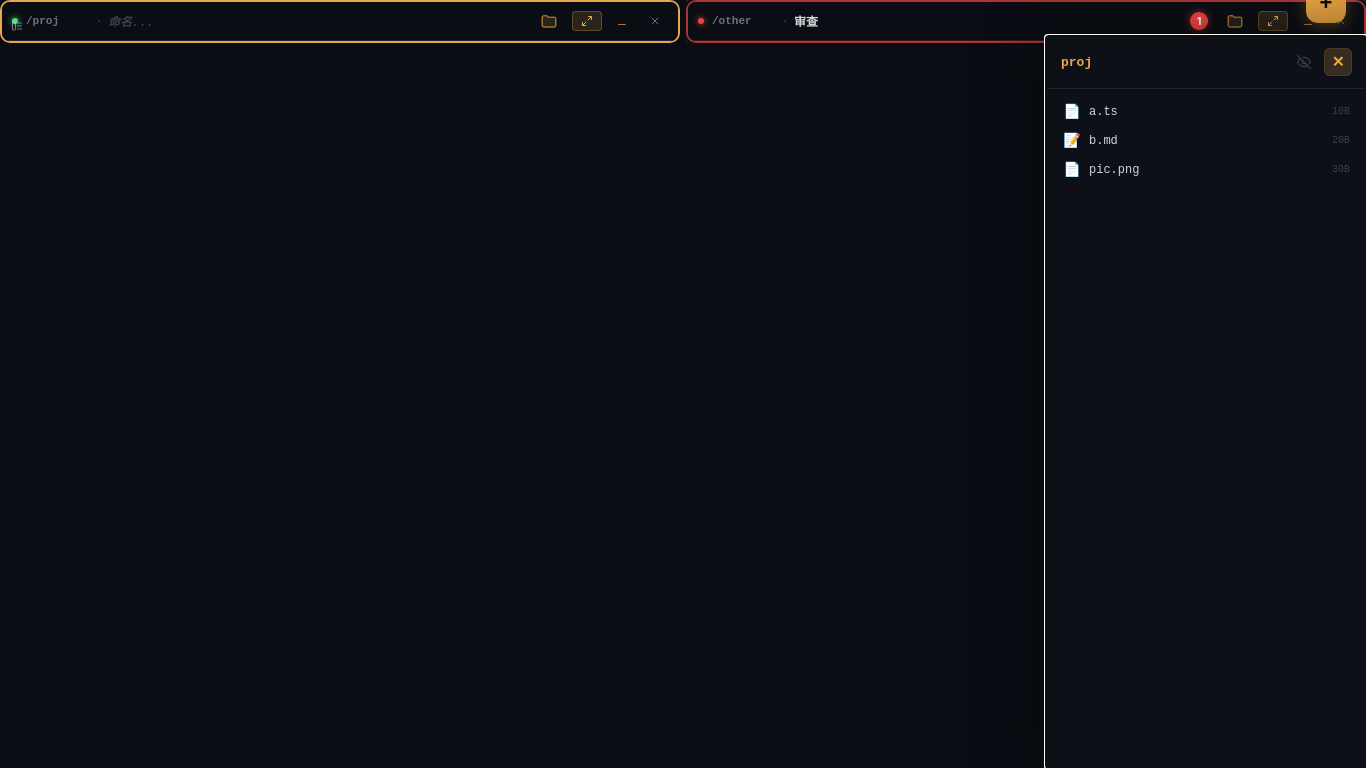
Test: file-tabs 终端状态灯组（§2.5） › ⑱ displayed=t2 时 owner 被关 → 整体退出（归位不与退出竞争）
What coordinates should you click on to do the following:
click the element showing "📄 a.ts 10B"
I would click on:
 (1072, 112)
Its box is x1=1063 y1=104 x2=1350 y2=120.
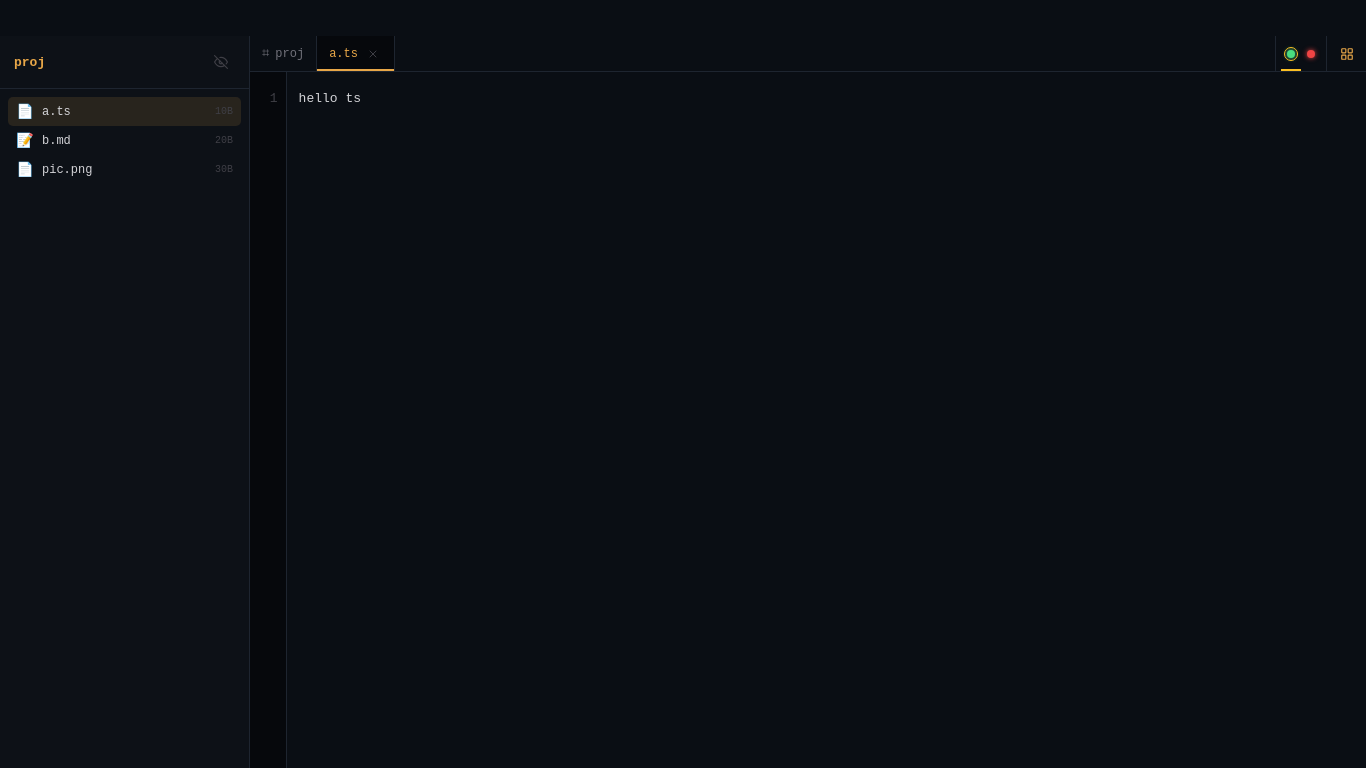
What coordinates should you click on to do the following:
click the button named "审查 · 等待输入"
I would click on:
 (1311, 54)
Its box is x1=1301 y1=36 x2=1321 y2=71.
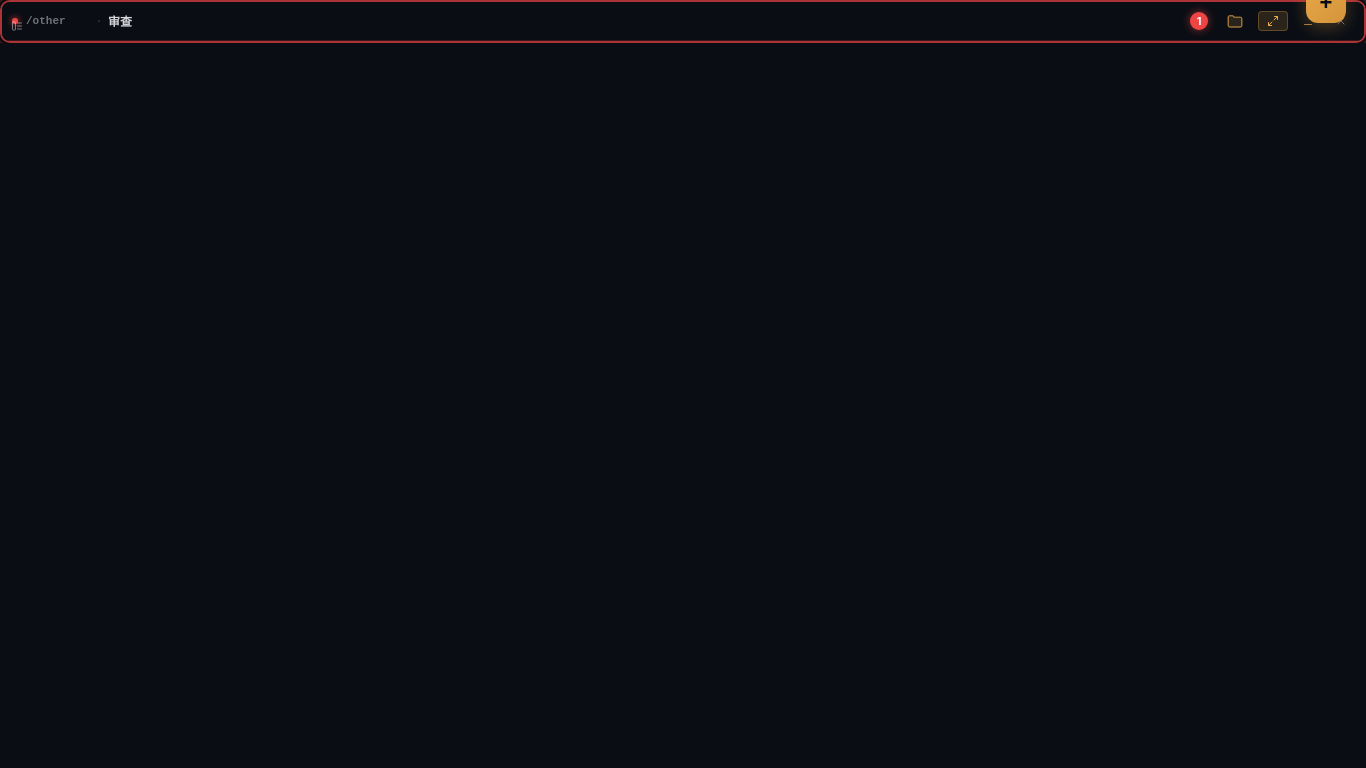
Expected: the element with class "file-tabs-view" is gone
Expected: the element with class "terminal-grid" is shown, x1=0 y1=0 x2=1365 y2=43
